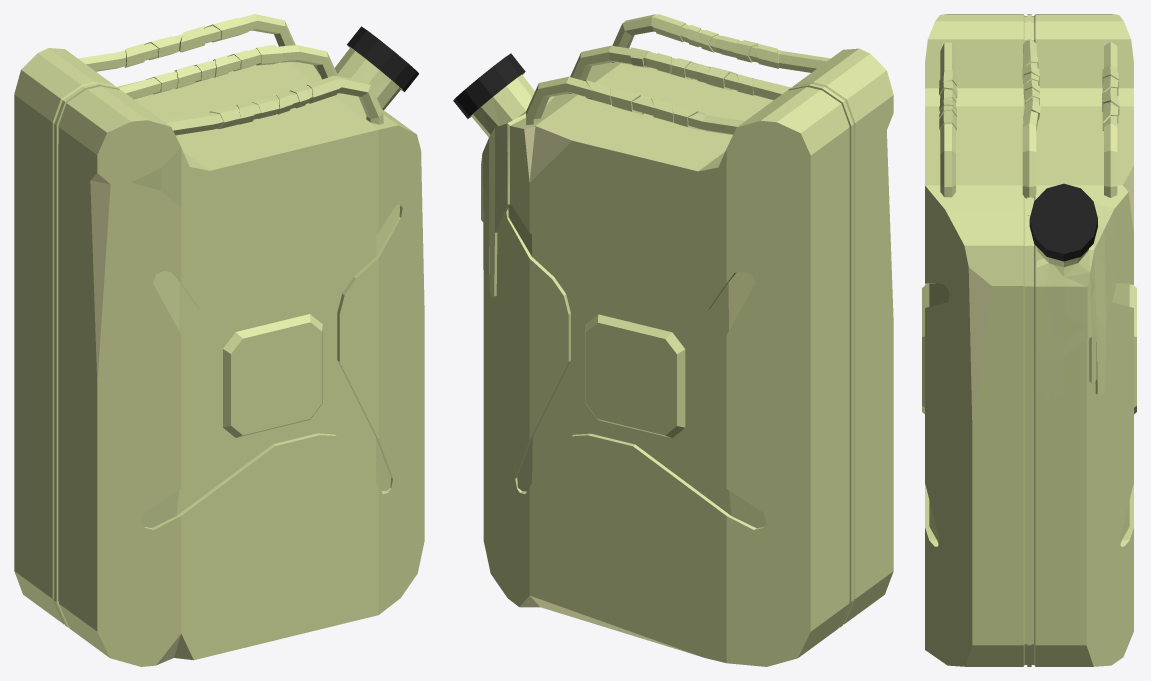
The model's file is SM_Canister_01.fbx.
3 renders of one model, left to right at view 1: azimuth 30°, elevation 25°; view 2: azimuth 150°, elevation 25°; view 3: azimuth 270°, elevation 25°, orthographic. The views are drawn at different scales.
Visible parts, largest first — view 1: SM_Canister_01; view 2: SM_Canister_01; view 3: SM_Canister_01.
Boxes of the visible parts, bbox=[...] form: SM_Canister_01: bbox=[14, 14, 424, 666]; SM_Canister_01: bbox=[453, 14, 893, 666]; SM_Canister_01: bbox=[922, 14, 1136, 666].
Bounding box in the file's own units: 33.46 × 46.5 × 17.3.
